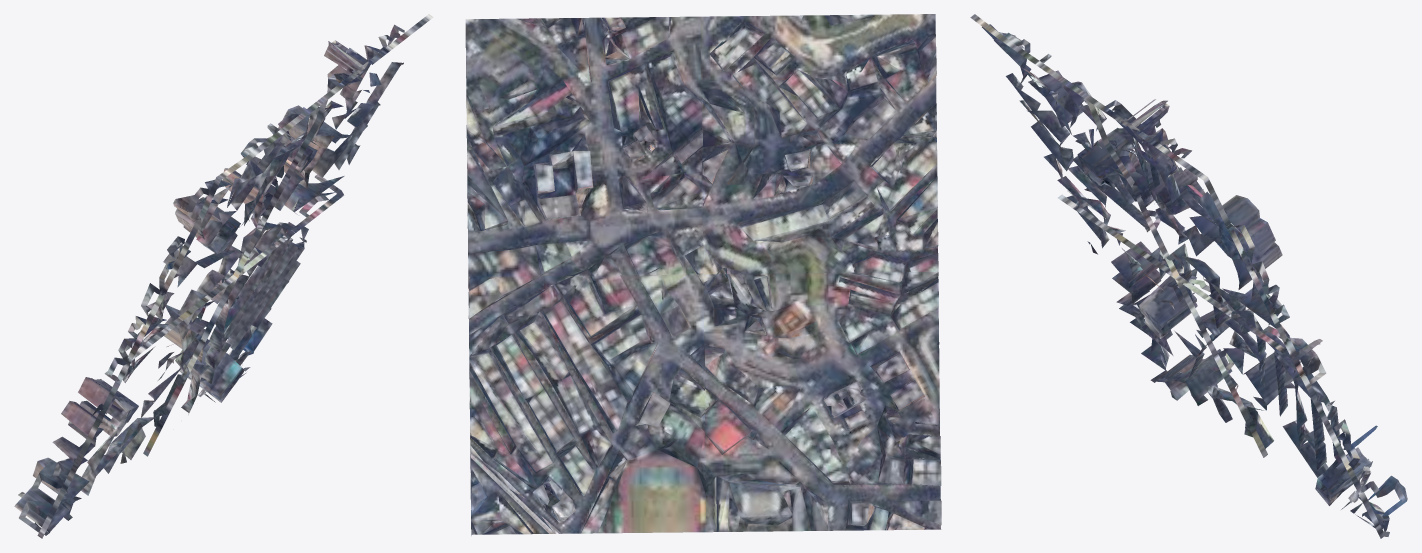
The picture shows the model from 3 angles, left to right: view 1: azimuth 30°, elevation 25°; view 2: azimuth 150°, elevation 25°; view 3: azimuth 270°, elevation 25°; orthographic projection. The views are drawn at different scales.
Bounding box in the file's own units: 625 × 582 × 541.
Materials: 1 (1 with a texture image).
